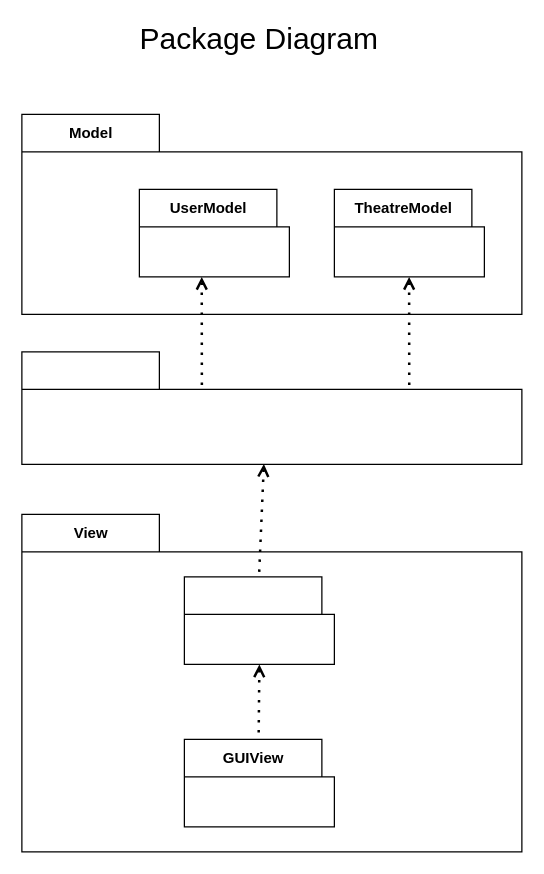
Some shapes in this 544 by 874 pixel diagram are drawn without their labels. The shapes that lost their labels are listed below. From the top down, each one's box as (x1, y1, x2, y2) in pixels, then its label:
(21, 351, 522, 464): Controller
(183, 576, 334, 664): GUIController
